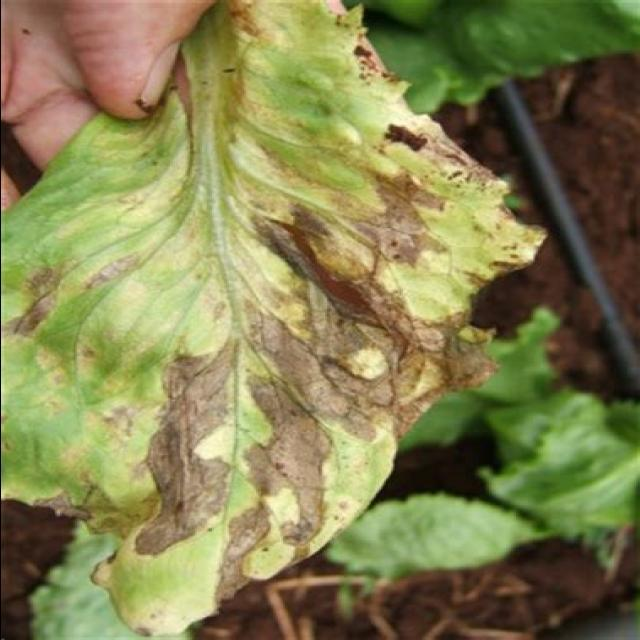Baby: (156, 195, 416, 439)
